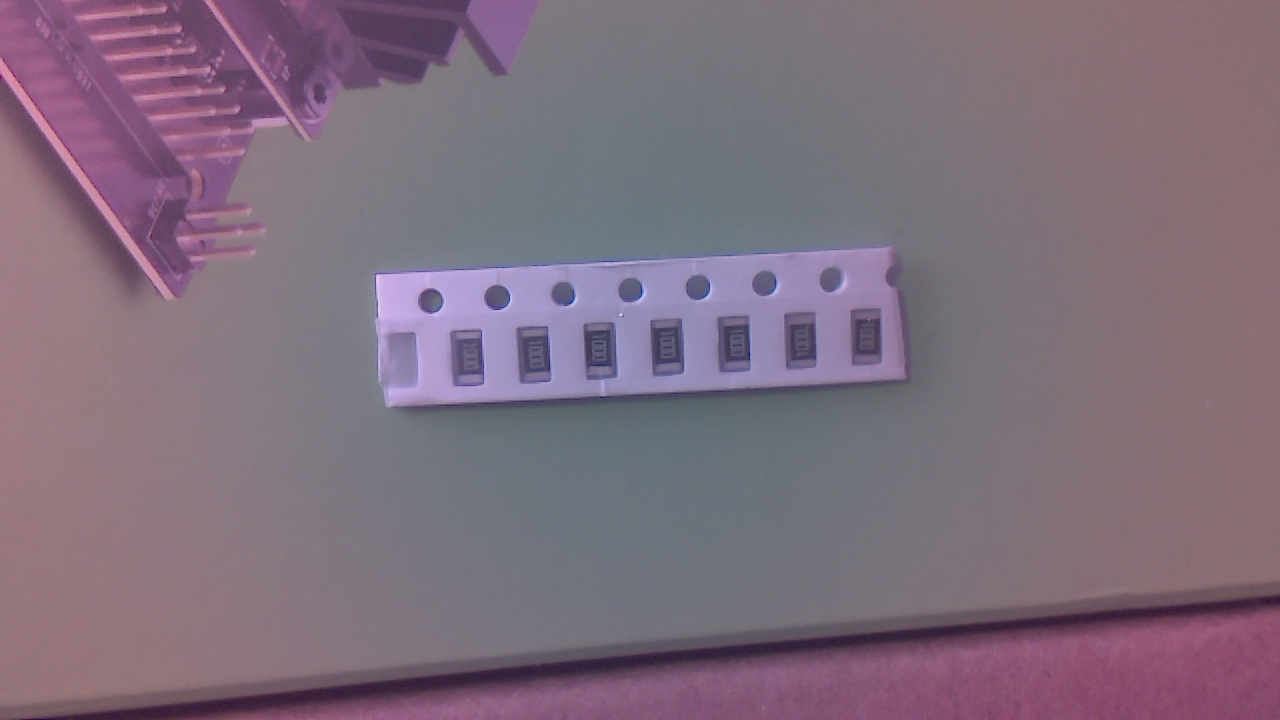Resistor: (519, 329, 557, 388), (788, 316, 825, 376), (453, 333, 490, 393), (855, 312, 890, 372), (722, 317, 756, 378), (588, 326, 622, 387), (654, 322, 689, 381)
